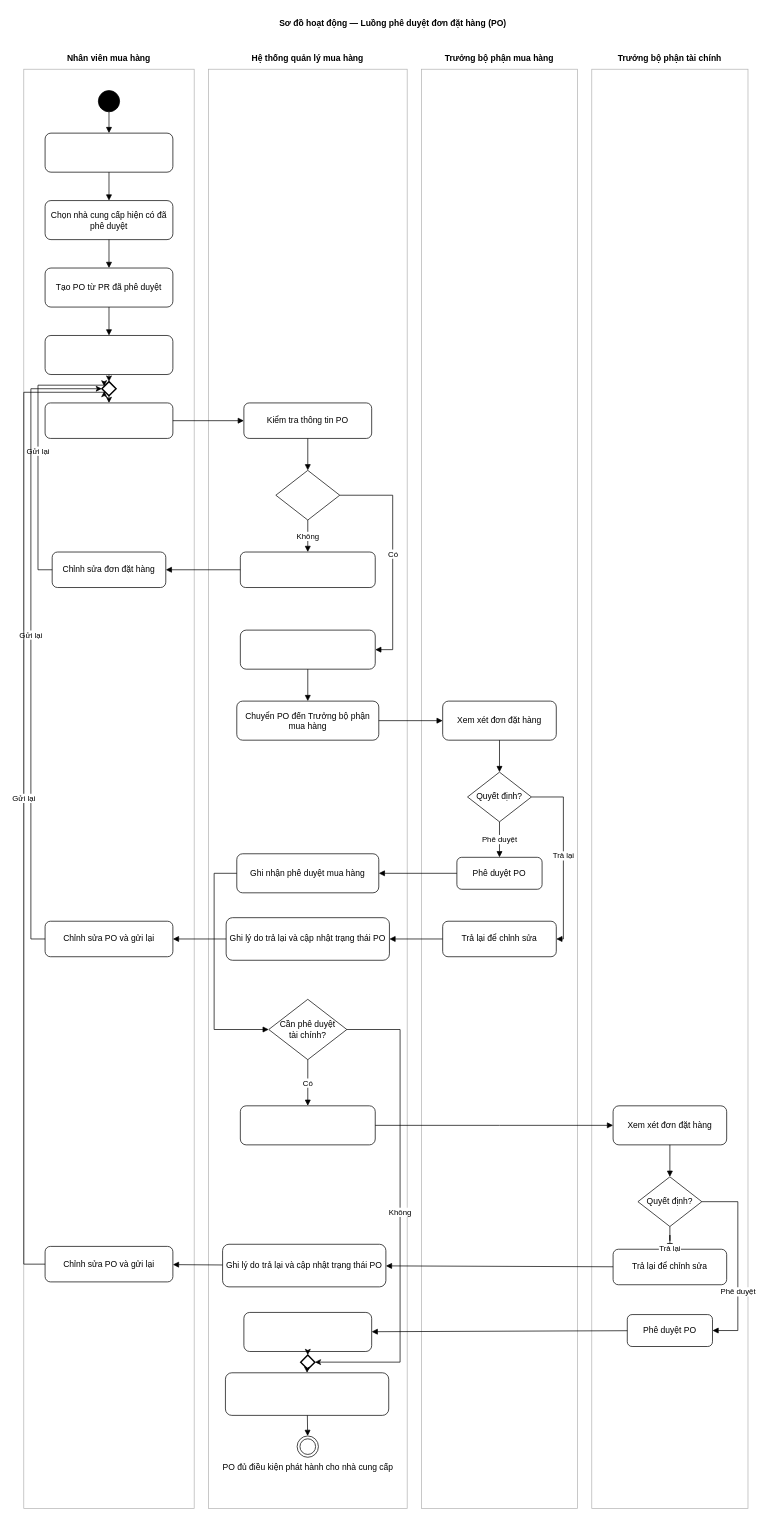
Some shapes in this 768 by 1521 pixel diagram are drawn without their labels. The shapes that lost their labels are listed below. From the top down, each one's centre as x and y in pixels, then its label:
(x=108, y=152): Mở yêu cầu mua hàng đã phê duyệt
(x=108, y=355): Hoàn thiện thông tin PO
(x=108, y=420): Gửi đơn đặt hàng
(x=307, y=495): Thông tin hợp lệ?
(x=307, y=569): Hiển thị lỗi kiểm tra
(x=307, y=649): Xác định tuyến phê duyệt PO
(x=307, y=1125): Chuyển PO đến Trưởng bộ phận tài chính
(x=307, y=1331): Ghi nhận phê duyệt tài chính
(x=307, y=1393): Hoàn tất PO và cập nhật trạng thái / lịch sử kiểm toán
